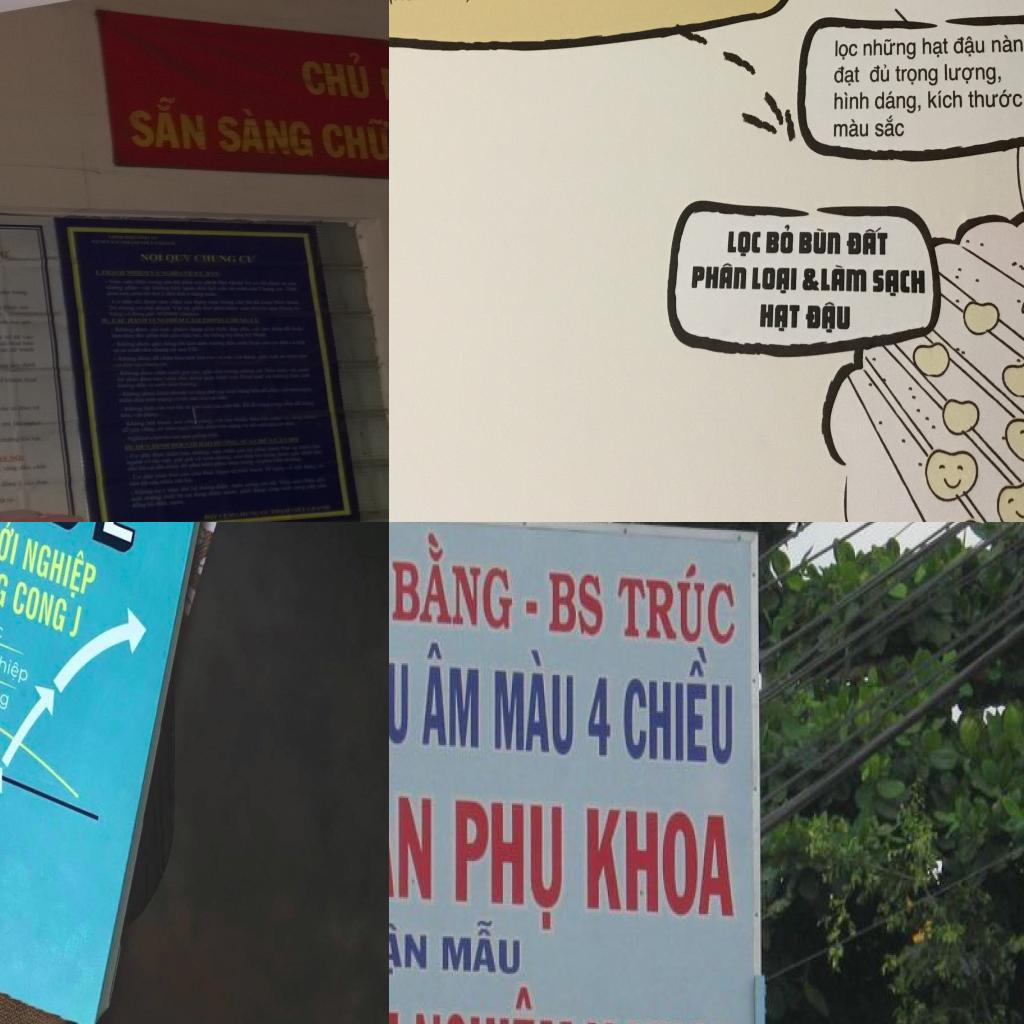text: (580, 800, 740, 922), (619, 644, 745, 776), (453, 795, 568, 936), (389, 522, 514, 635), (616, 554, 746, 649), (489, 644, 581, 764), (389, 747, 436, 909), (419, 641, 485, 755), (408, 982, 577, 1024), (18, 527, 100, 608), (436, 912, 528, 981), (213, 105, 316, 158), (124, 93, 208, 151), (547, 568, 608, 642), (298, 46, 373, 101), (10, 578, 72, 636), (318, 114, 389, 162), (581, 666, 615, 760), (389, 627, 411, 746), (389, 920, 431, 977), (688, 258, 748, 293), (871, 266, 927, 301), (940, 60, 1004, 86), (820, 264, 870, 296), (750, 265, 798, 297), (844, 225, 890, 258), (756, 300, 800, 334), (862, 35, 918, 61), (0, 644, 32, 688), (965, 85, 1024, 108), (796, 227, 842, 255), (894, 62, 938, 88), (0, 522, 24, 569), (872, 89, 917, 113), (725, 230, 763, 258), (765, 224, 796, 256), (951, 32, 987, 59), (923, 89, 964, 111), (989, 31, 1024, 56), (832, 90, 870, 112), (834, 116, 868, 139), (872, 116, 904, 140), (831, 37, 860, 63), (919, 36, 950, 59), (64, 607, 86, 638), (832, 65, 860, 89), (0, 676, 15, 716), (867, 62, 892, 84), (801, 267, 819, 293), (192, 254, 238, 264), (137, 252, 164, 264), (165, 253, 193, 264), (236, 253, 260, 264), (389, 0, 425, 6), (0, 250, 12, 259)
